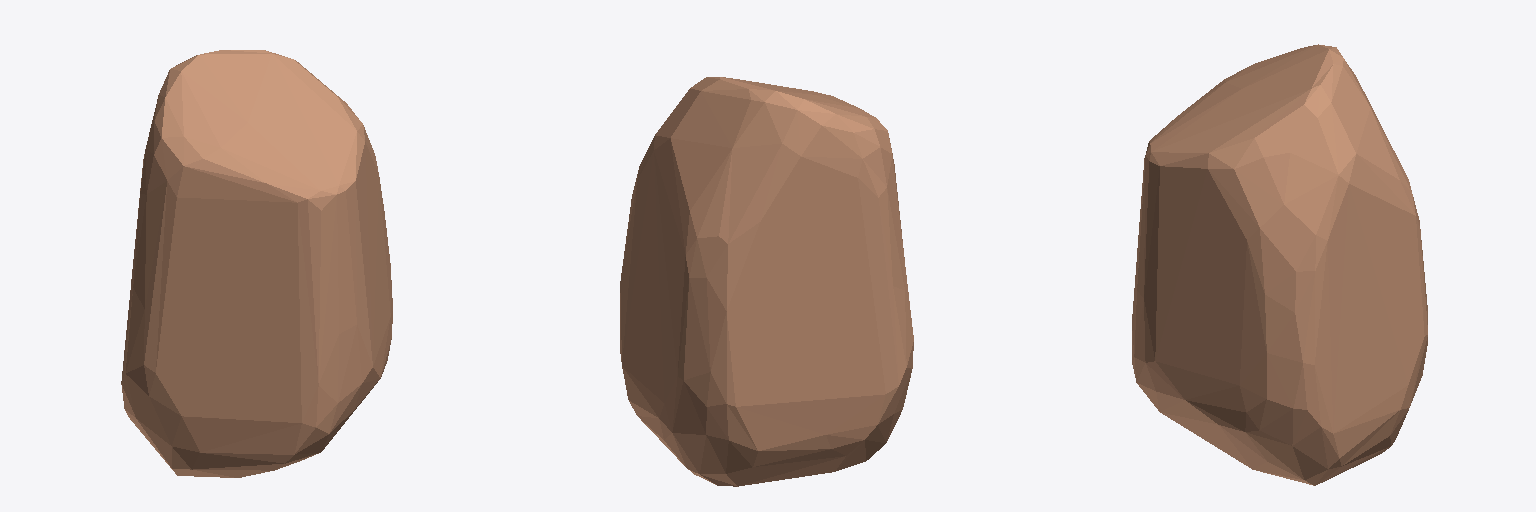
The model's file is subWoofRock1.obj.
3 views of the same model, side by side, from view 1: azimuth 30°, elevation 25°; view 2: azimuth 150°, elevation 25°; view 3: azimuth 270°, elevation 25° (orthographic).
Parts seen in each view (by area): view 1: Cube.001_Cube.004; view 2: Cube.001_Cube.004; view 3: Cube.001_Cube.004.
Boxes of the visible parts, x1=… form: Cube.001_Cube.004: x1=121, y1=50, x2=392, y2=477; Cube.001_Cube.004: x1=620, y1=77, x2=913, y2=486; Cube.001_Cube.004: x1=1132, y1=44, x2=1427, y2=485.
Bounding box in the file's own units: 2.93 × 3.98 × 2.79.